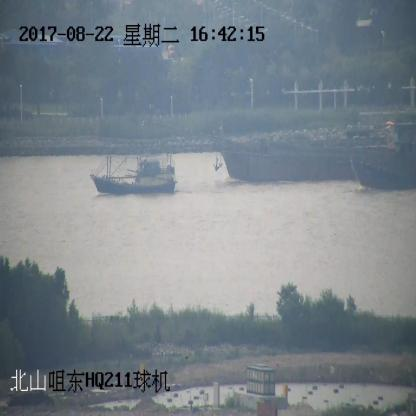Fishing Boat: (90, 153, 175, 196), (352, 152, 416, 192)
